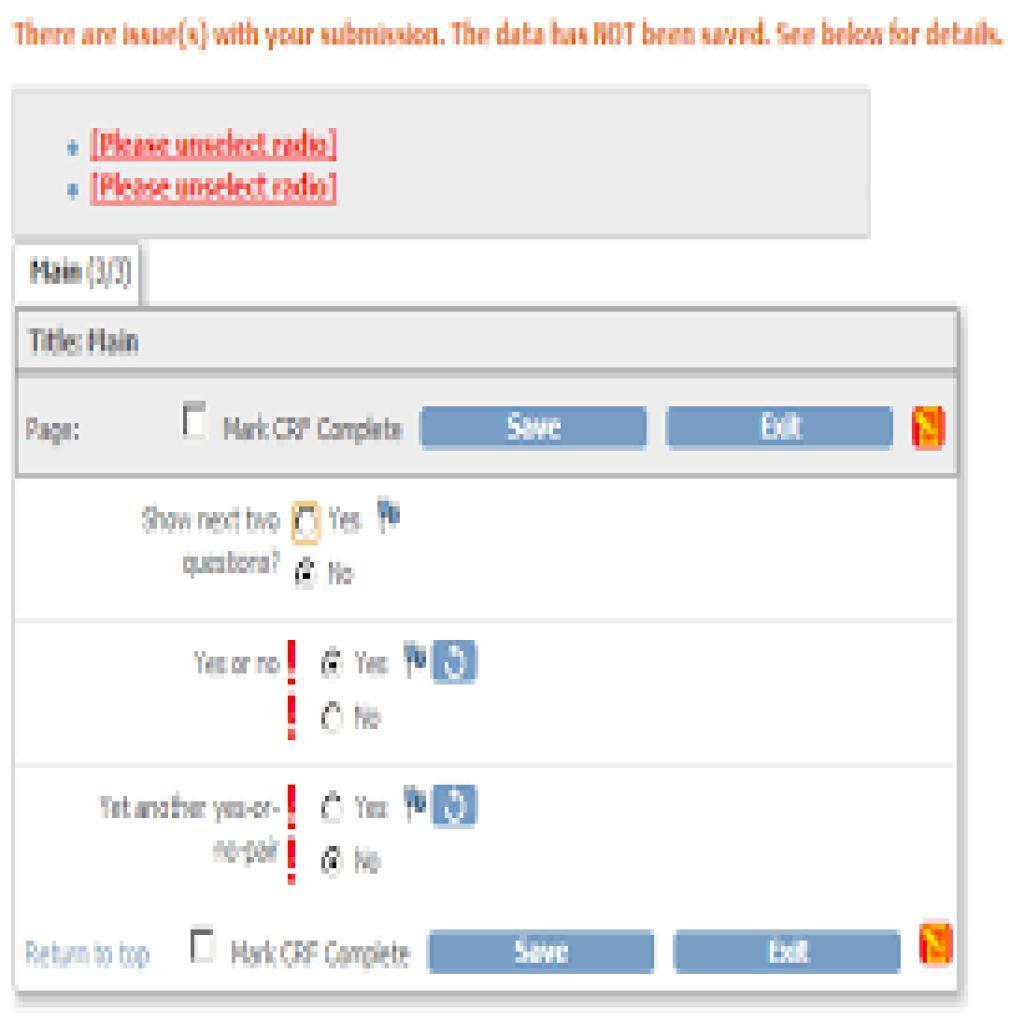button: (669, 406, 900, 453), (420, 404, 650, 450), (671, 929, 904, 973), (426, 932, 656, 975)
checkbox: (184, 401, 210, 443), (189, 931, 221, 965)
icon: (918, 921, 958, 971), (910, 407, 950, 452)
radio: (314, 833, 351, 884), (318, 693, 351, 739), (317, 789, 353, 826), (294, 550, 321, 597), (317, 642, 346, 678)
